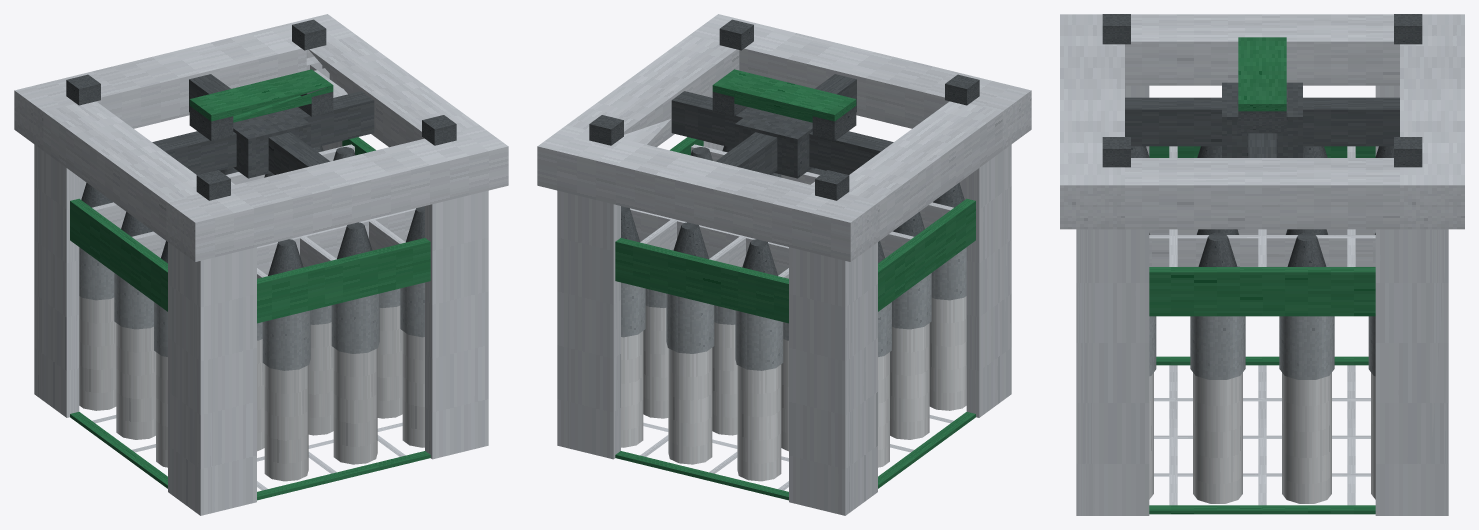
Rendered from tvs_loaded_top.obj.
3 views of the same model, side by side, from view 1: azimuth 30°, elevation 25°; view 2: azimuth 150°, elevation 25°; view 3: azimuth 270°, elevation 25° (orthographic). The views are drawn at different scales.
Bounding box in the file's own units: 1 × 1 × 1.
